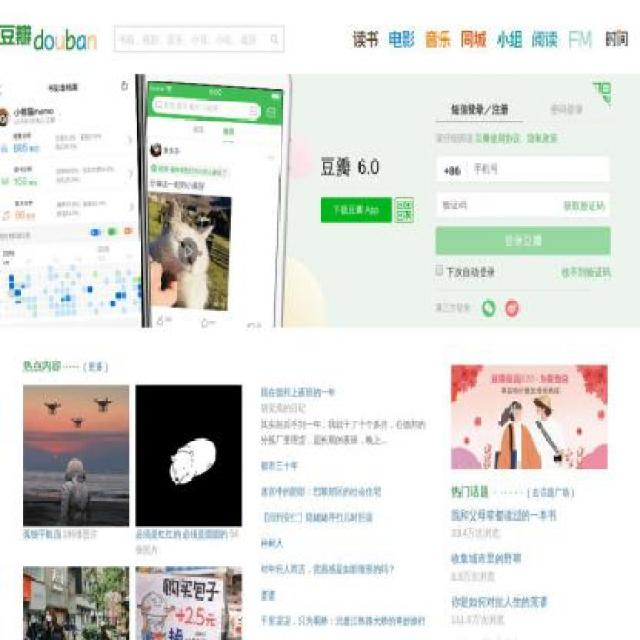button: (320, 198, 392, 222), (452, 508, 556, 523), (450, 594, 548, 609), (451, 551, 522, 566), (388, 29, 414, 48), (424, 29, 450, 48), (460, 29, 486, 48), (532, 29, 558, 48), (394, 198, 414, 222), (354, 29, 378, 48), (497, 29, 521, 48), (569, 29, 593, 48), (604, 30, 630, 47), (452, 638, 522, 639)
field: (115, 27, 272, 51), (265, 27, 284, 51)
